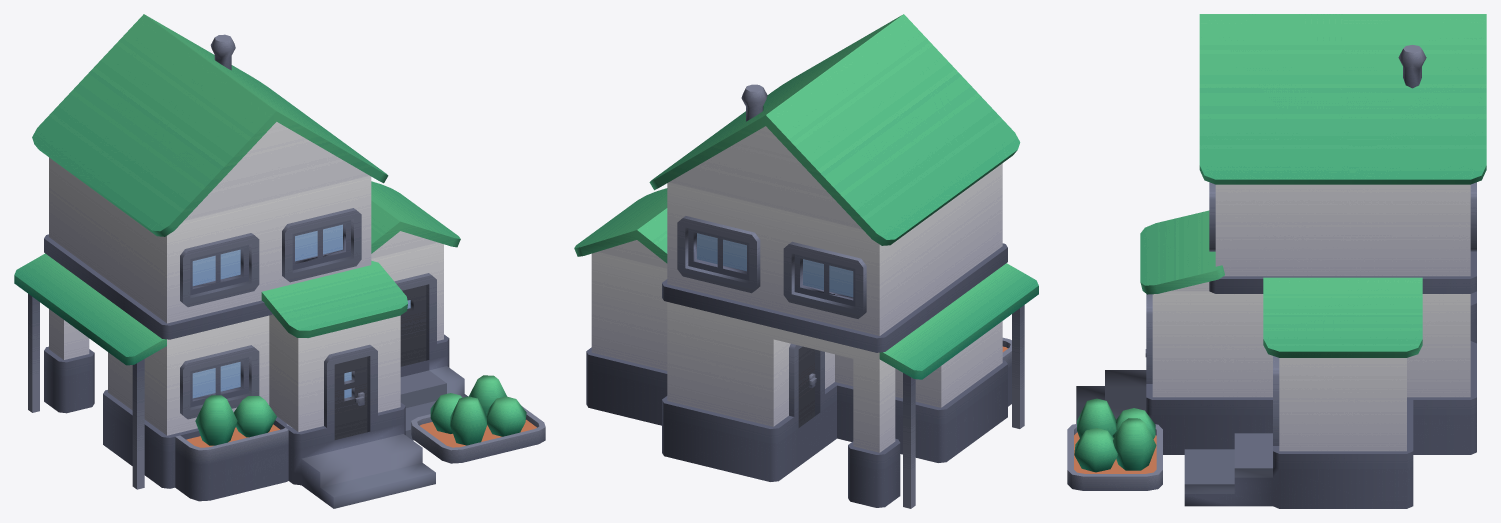
File: house2_level2.glb
3 renders of one model, left to right at view 1: azimuth 30°, elevation 25°; view 2: azimuth 150°, elevation 25°; view 3: azimuth 270°, elevation 25°, orthographic. The views are drawn at different scales.
Visible parts, largest first — view 1: building-type-s; view 2: building-type-s; view 3: building-type-s.
Boxes of the visible parts, x1,y1,x2,y2 form: building-type-s: (14,14,545,508); building-type-s: (574,14,1038,508); building-type-s: (1067,14,1486,508).
Bounding box in the file's own units: 1.41 × 1.33 × 1.32.
3 materials, 3 textured.
